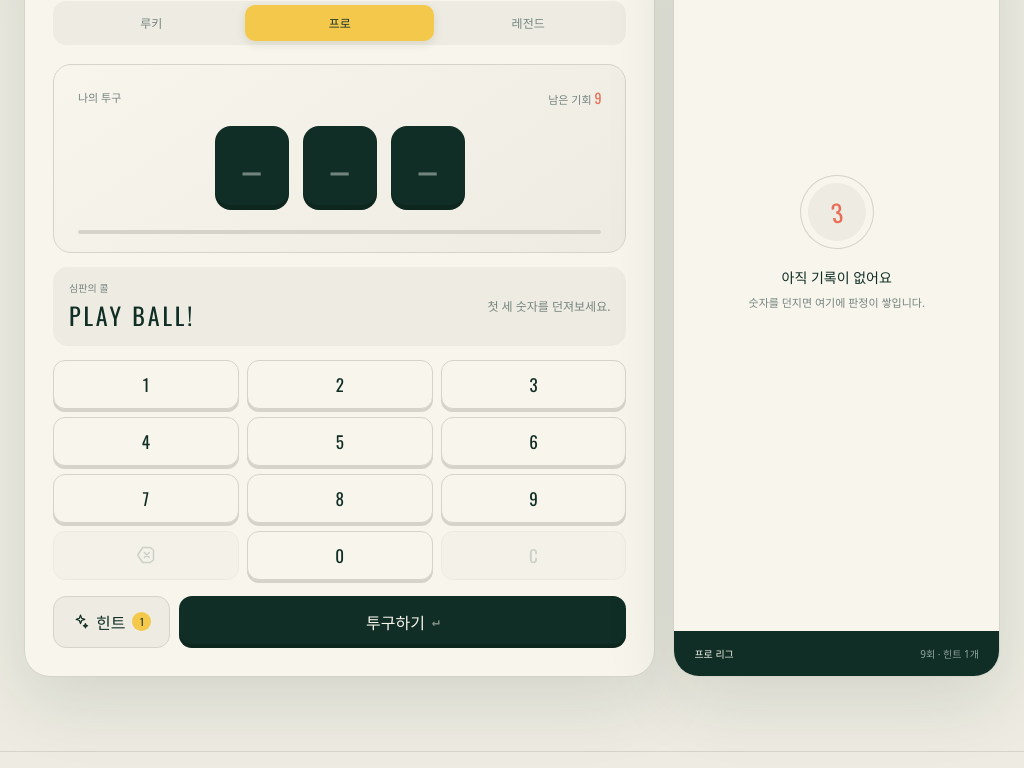
App › blocks duplicate digits and incomplete guesses
The image size is (1024, 768).
(page scrolled)
Click the button "1" at (146, 384), box x1=53 y1=360 x2=239 y2=409
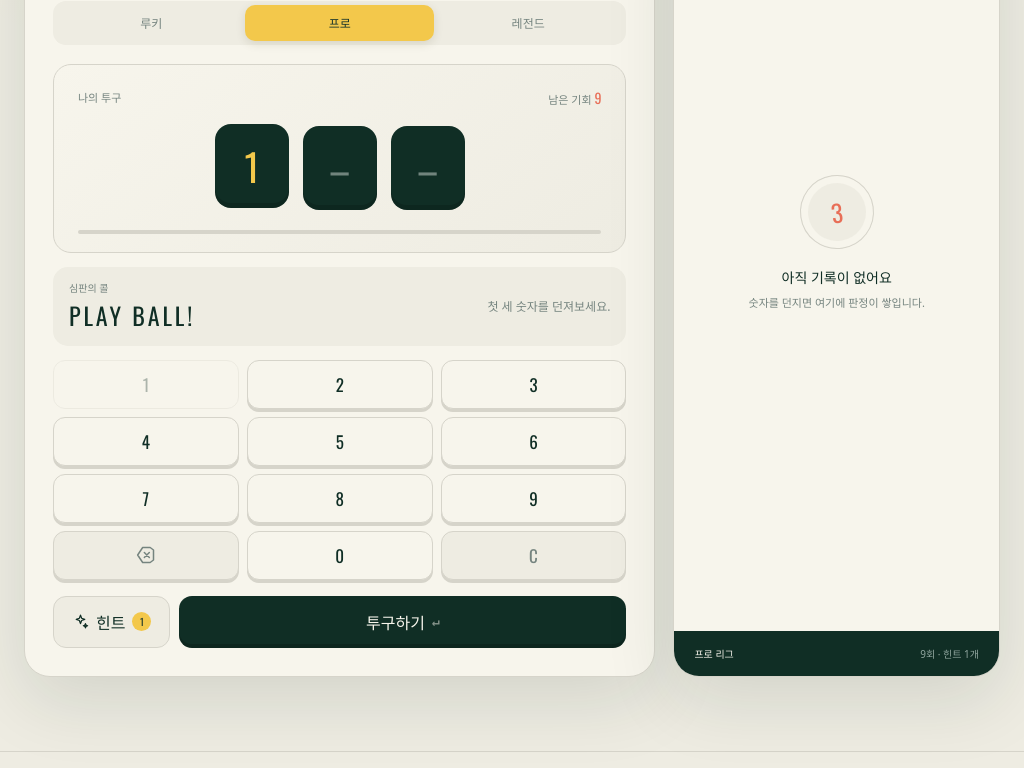
Check: the button "1" is disabled, box x1=53 y1=360 x2=239 y2=409
Click the button "투구하기 ↵" at (403, 622), box x1=180 y1=596 x2=626 y2=648
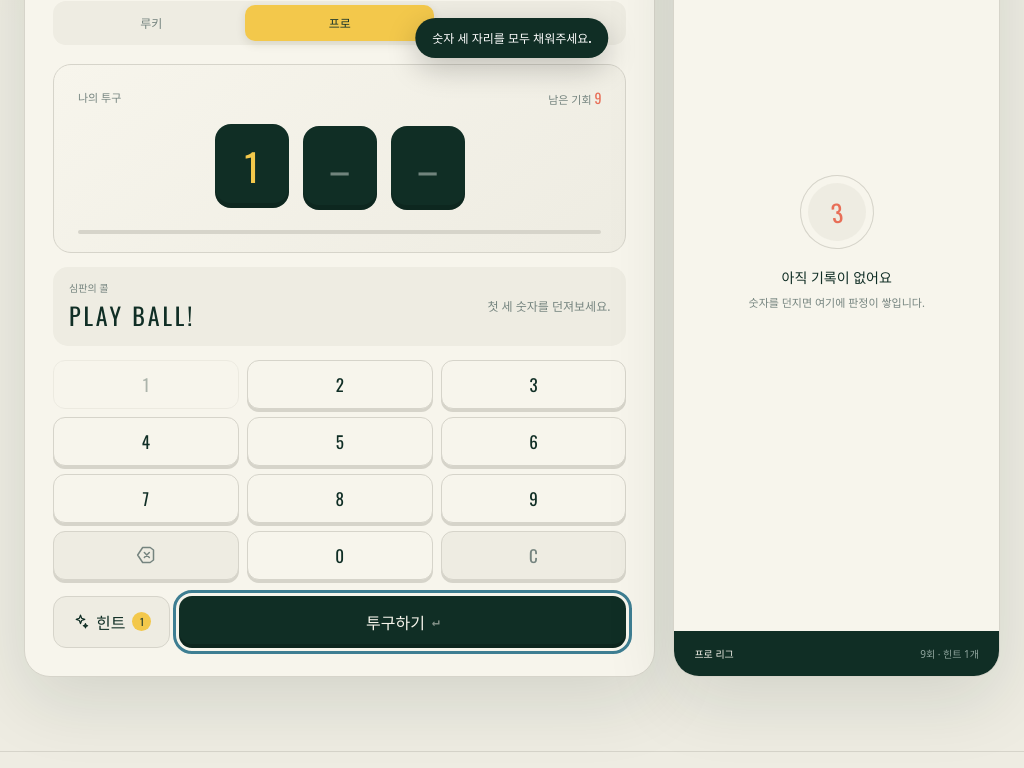
Check: the message reads "숫자 세 자리를 모두 채워주세요.", box x1=432 y1=30 x2=592 y2=47
